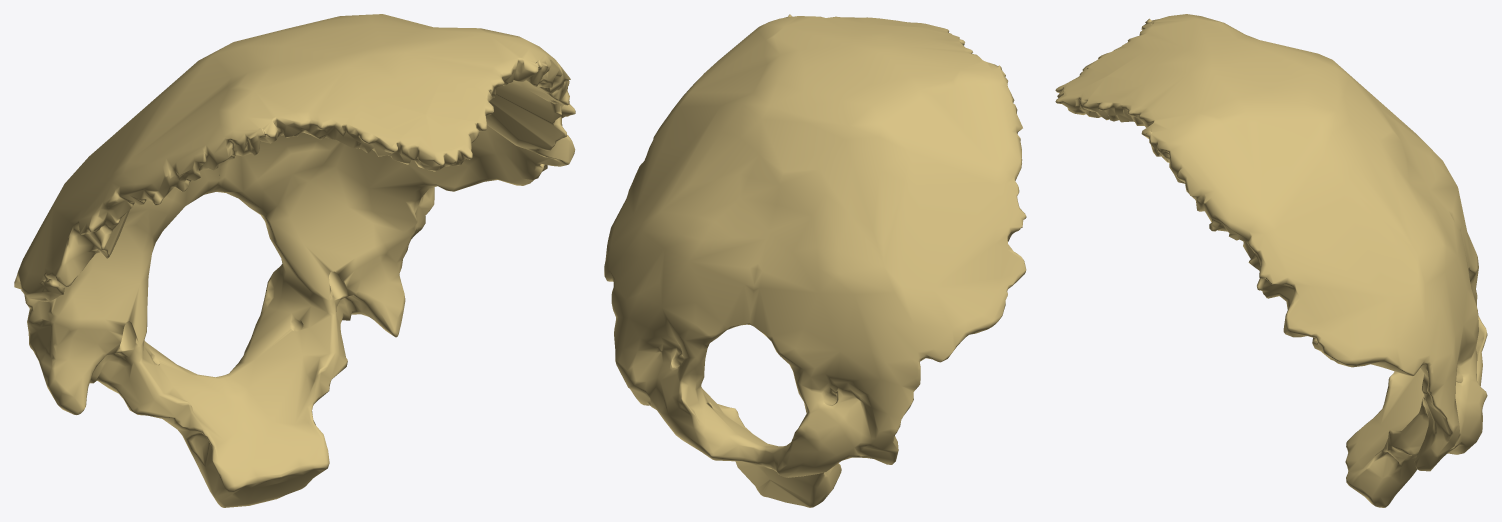
3 views of the same model, side by side, from view 1: azimuth 30°, elevation 25°; view 2: azimuth 150°, elevation 25°; view 3: azimuth 270°, elevation 25° (orthographic). The views are drawn at different scales.
Visible parts, largest first — view 1: 枕骨; view 2: 枕骨; view 3: 枕骨.
Part boxes in pixels (x1=…): 枕骨: x1=14, y1=14, x2=575, y2=507; 枕骨: x1=604, y1=14, x2=1026, y2=507; 枕骨: x1=1055, y1=14, x2=1487, y2=507.
Bounding box in the file's own units: 0.1757 × 0.1707 × 0.1539.
